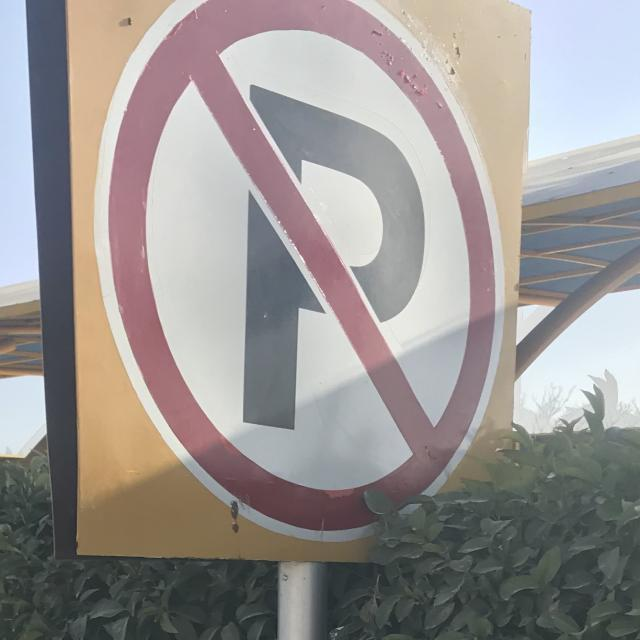no parking: (103, 11, 501, 540)
